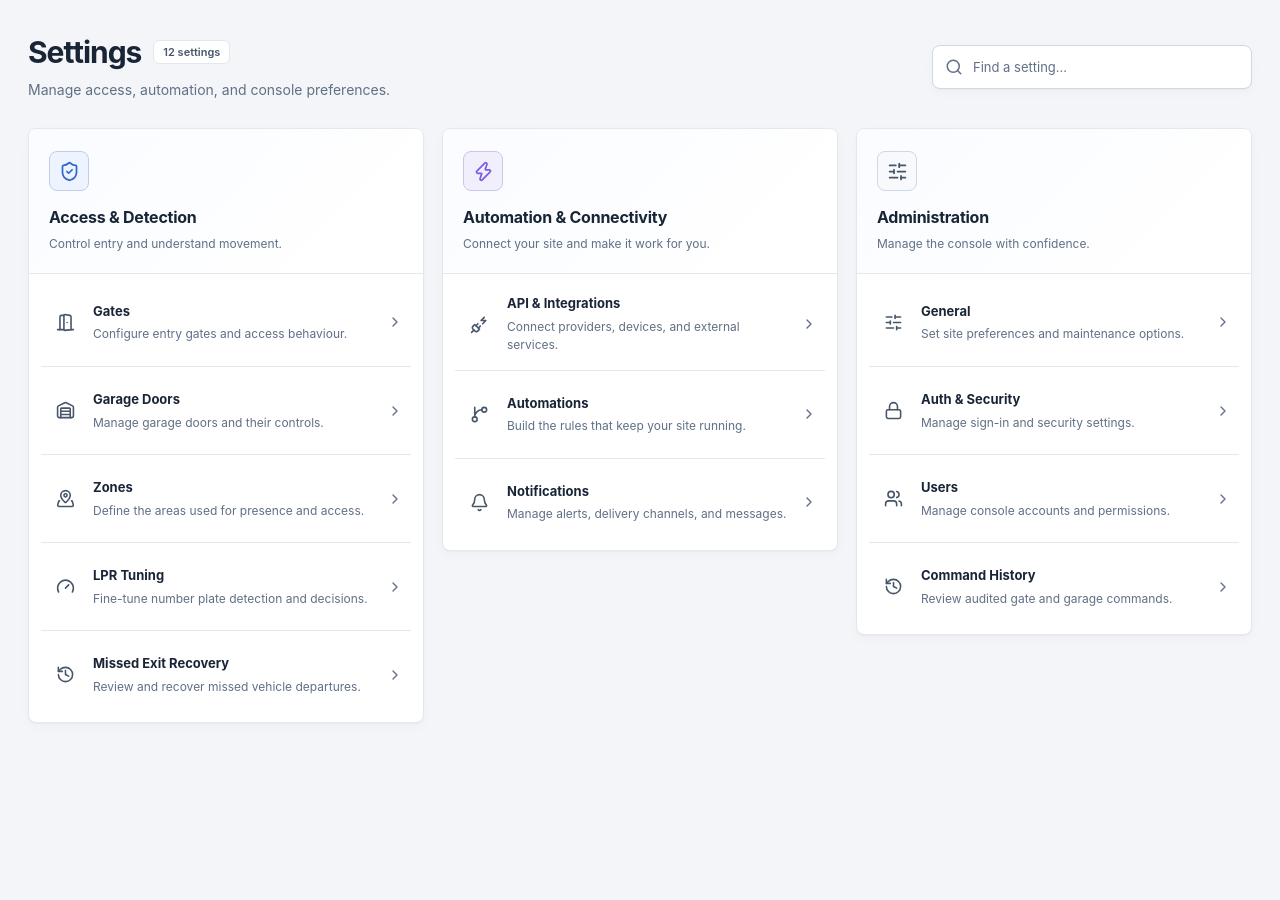
matches group names and hides groups without search results
Type "  aCcEsS & dEtEcTiOn  " into the search field labelled "Find a setting" at (1106,67), box [973,46,1239,88]
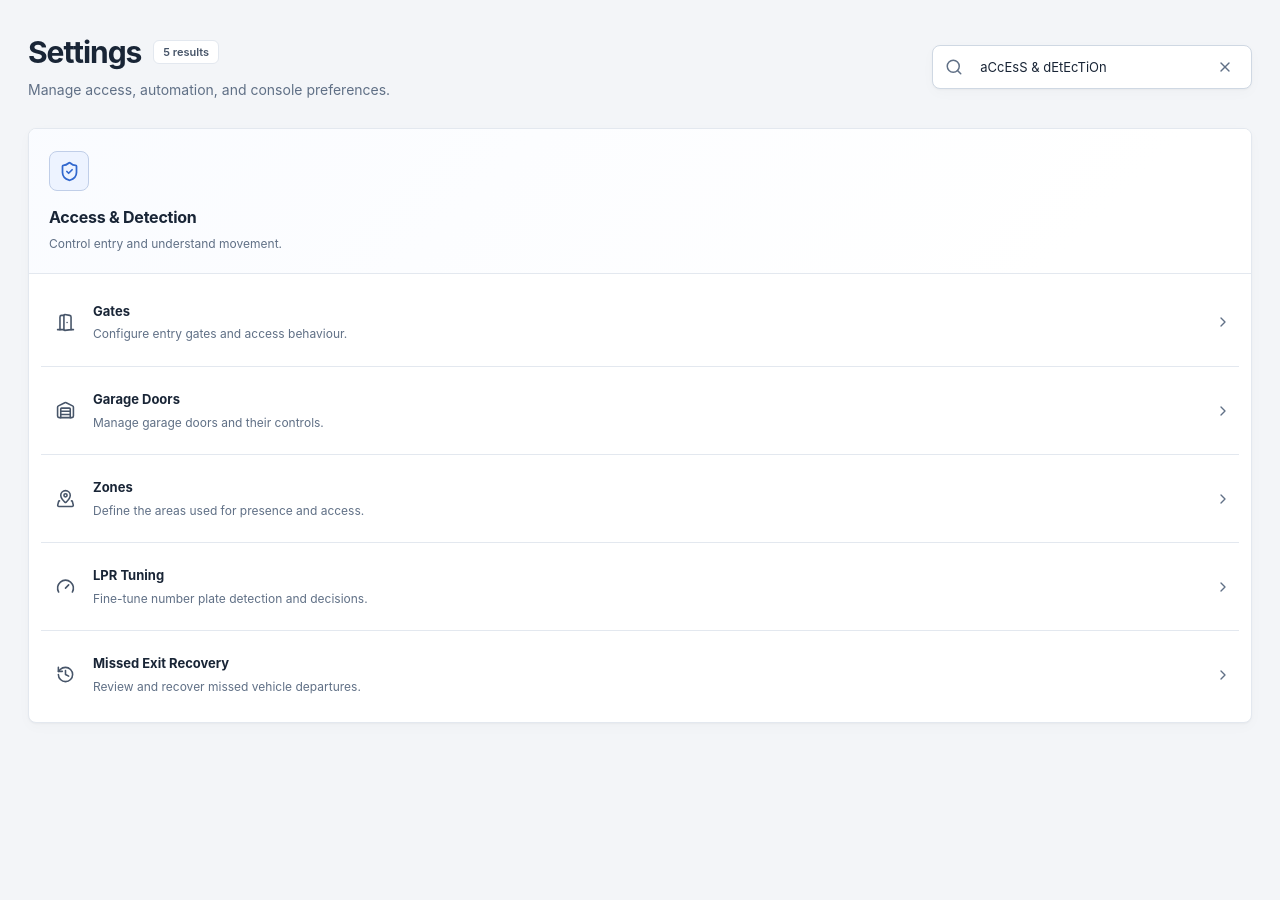
Result: the text "5 results" is shown at [153,40,219,64]
Result: the heading "Automation & Connectivity" is gone
Result: the heading "Administration" is gone
